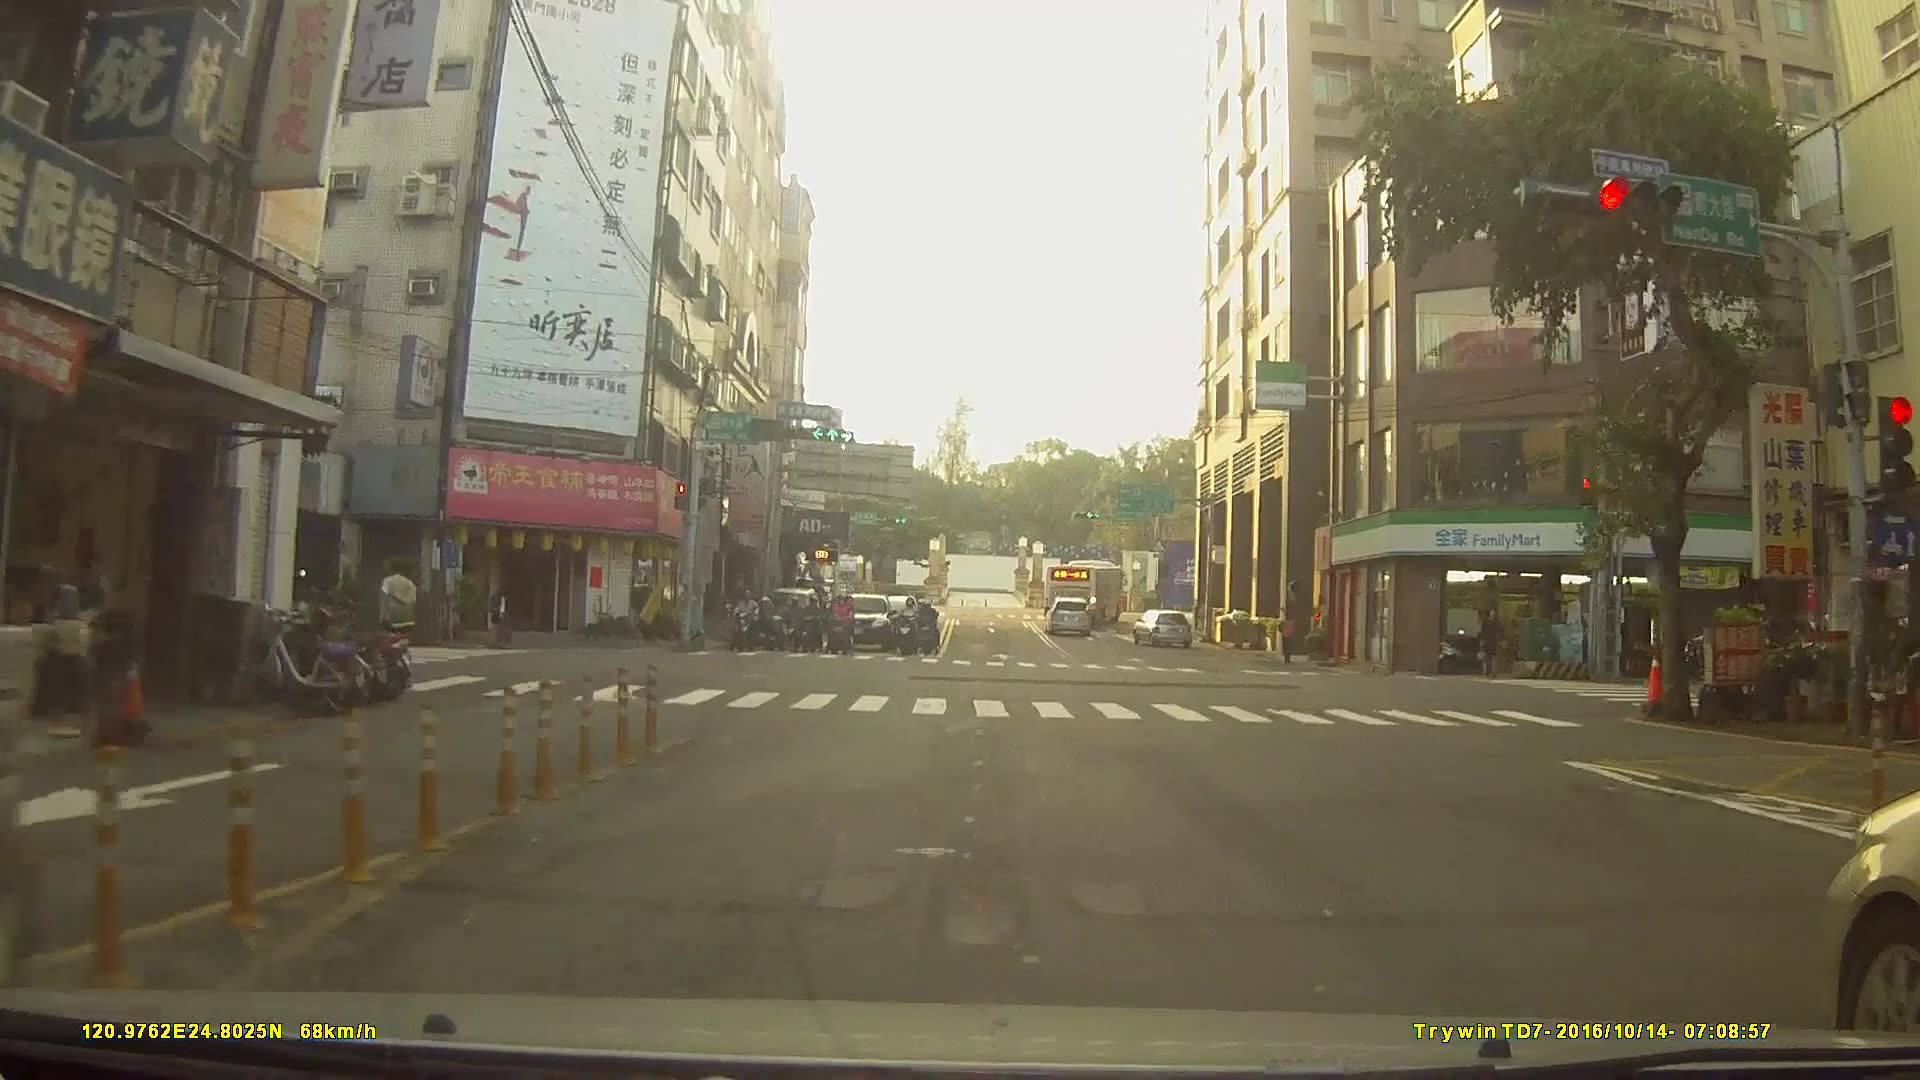pedestrian: (377, 559, 414, 675), (1479, 605, 1504, 682), (489, 593, 514, 653), (1279, 611, 1300, 667)
rider: (728, 595, 761, 660), (825, 599, 856, 666), (895, 595, 920, 660), (798, 601, 825, 659), (765, 593, 792, 650), (918, 604, 942, 663)
vehicle: (1043, 557, 1126, 621), (829, 590, 895, 655), (1131, 607, 1193, 647), (1043, 596, 1094, 637)
